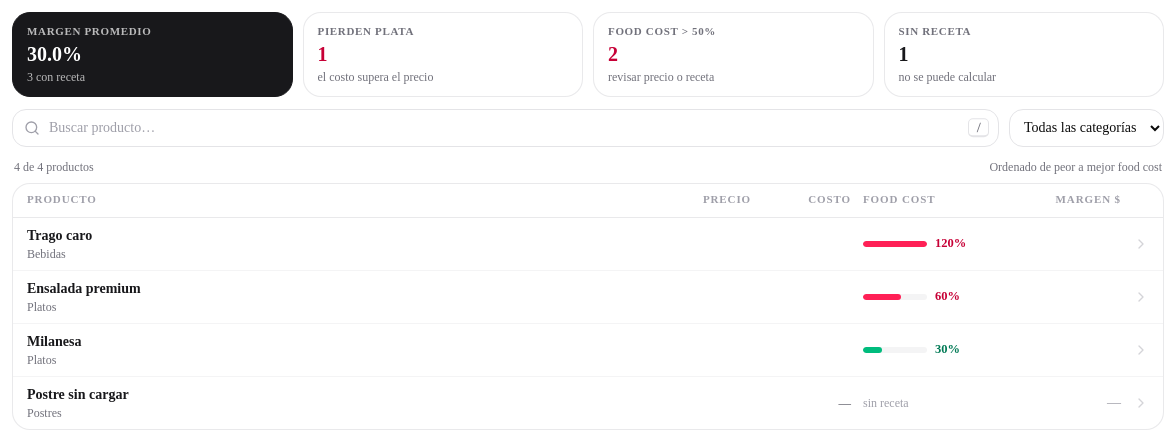
Scenario: CosteoTab (spec 205 · D11) › KPI «Sin receta» filtra hasRecipe=false
Click the button "Sin receta 1 no se puede calcular".
click(935, 31)  # box [884,12,1164,96]
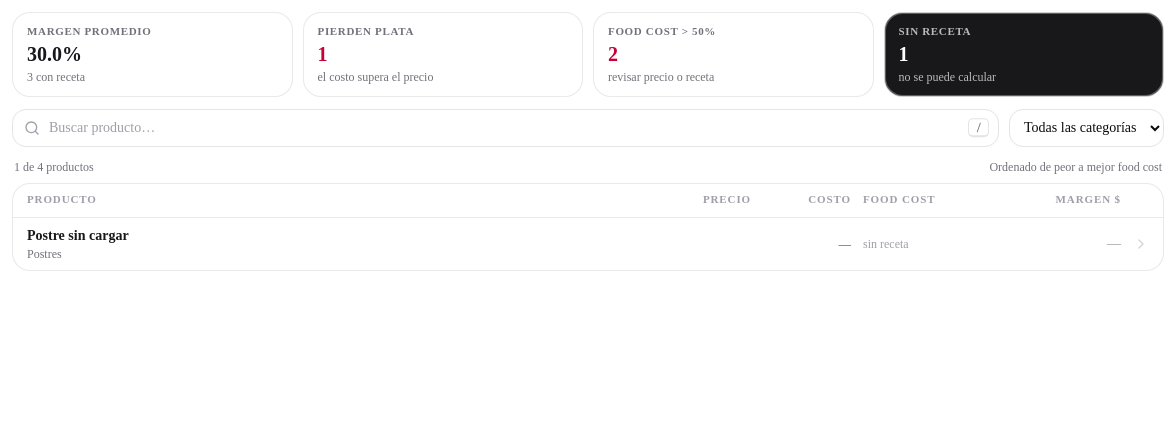
Expected: the text "Postre sin cargar" is shown, [27,228,129,242]
Now the text "Milanesa" is gone
